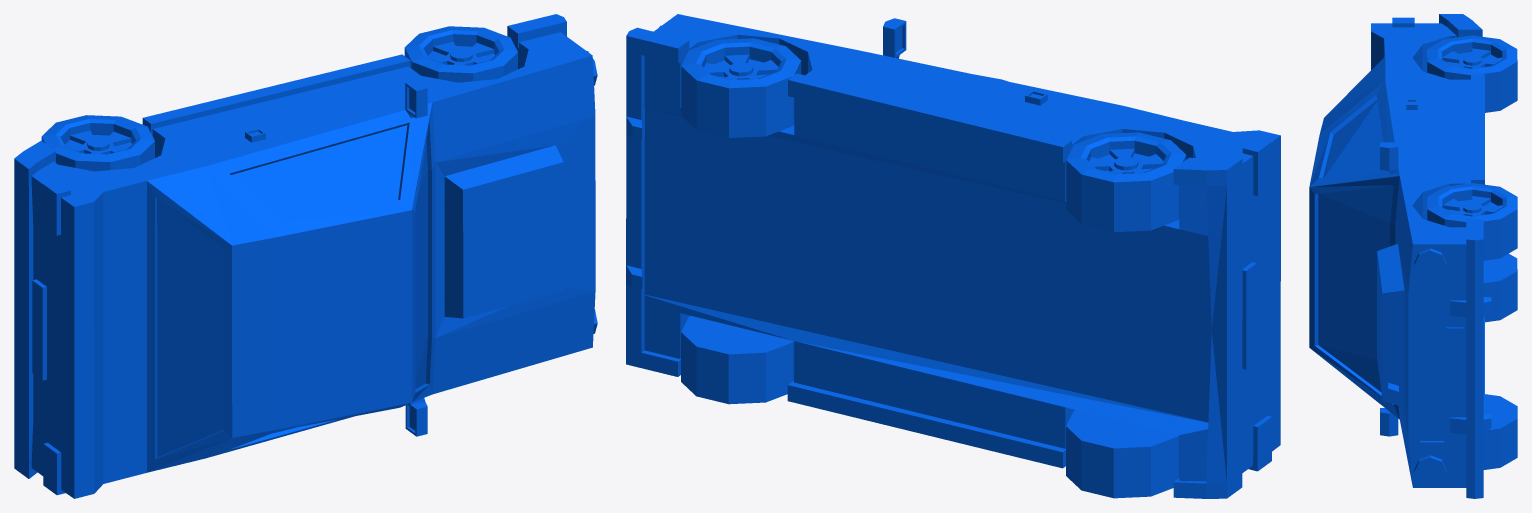
Rendered from blue_car.glb.
The picture shows the model from 3 angles, left to right: view 1: azimuth 30°, elevation 25°; view 2: azimuth 150°, elevation 25°; view 3: azimuth 270°, elevation 25°; orthographic projection. The views are drawn at different scales.
Visible parts, largest first — view 1: Car_07_Cube.041; view 2: Car_07_Cube.041; view 3: Car_07_Cube.041.
Boxes of the visible parts, <box> form: Car_07_Cube.041: <box>14,14,597,498</box>; Car_07_Cube.041: <box>626,14,1280,498</box>; Car_07_Cube.041: <box>1309,14,1517,498</box>.
Size of the model in its own units: 0.9023 by 0.5352 by 0.3503.
